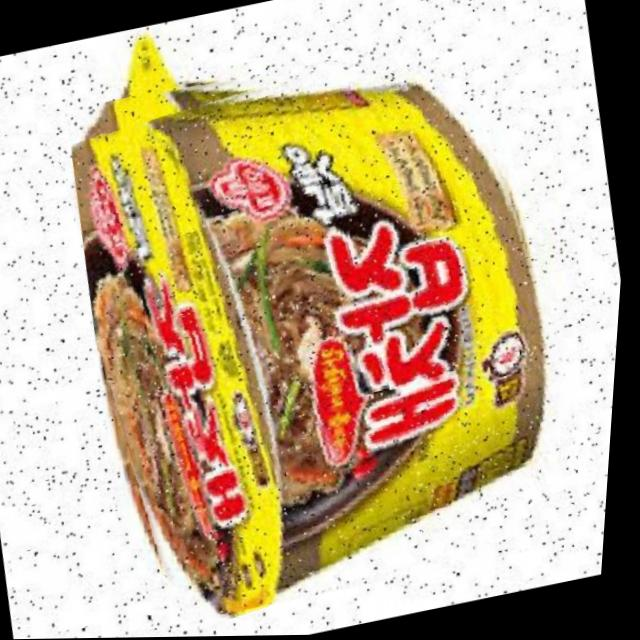Miscellaneous: (40, 14, 627, 634)
